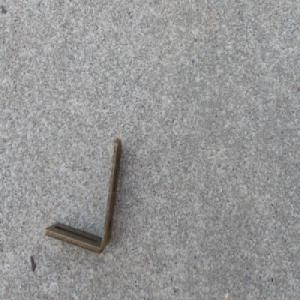MetalPart: (44, 137, 122, 255)
